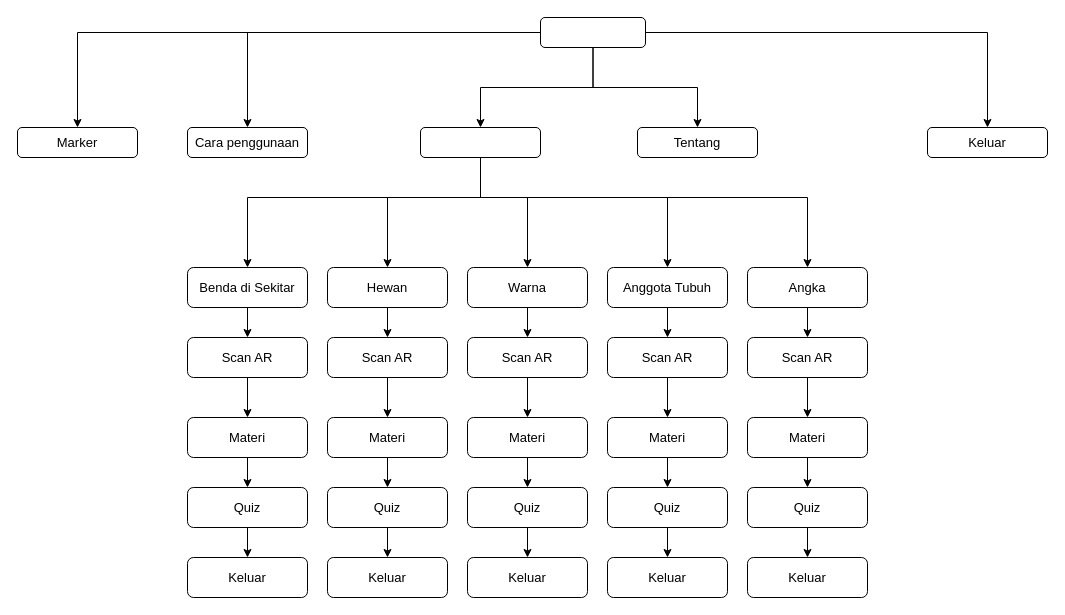
The diagram is 1065 pixels wide and 615 high, and some of its shapes have lost their labels. The shapes that lost their labels are listed below. From the top down, each one's centre as x and y in pixels, then its label:
At [593,32]: "Play".
At [480,142]: "Mulai Belajar".
